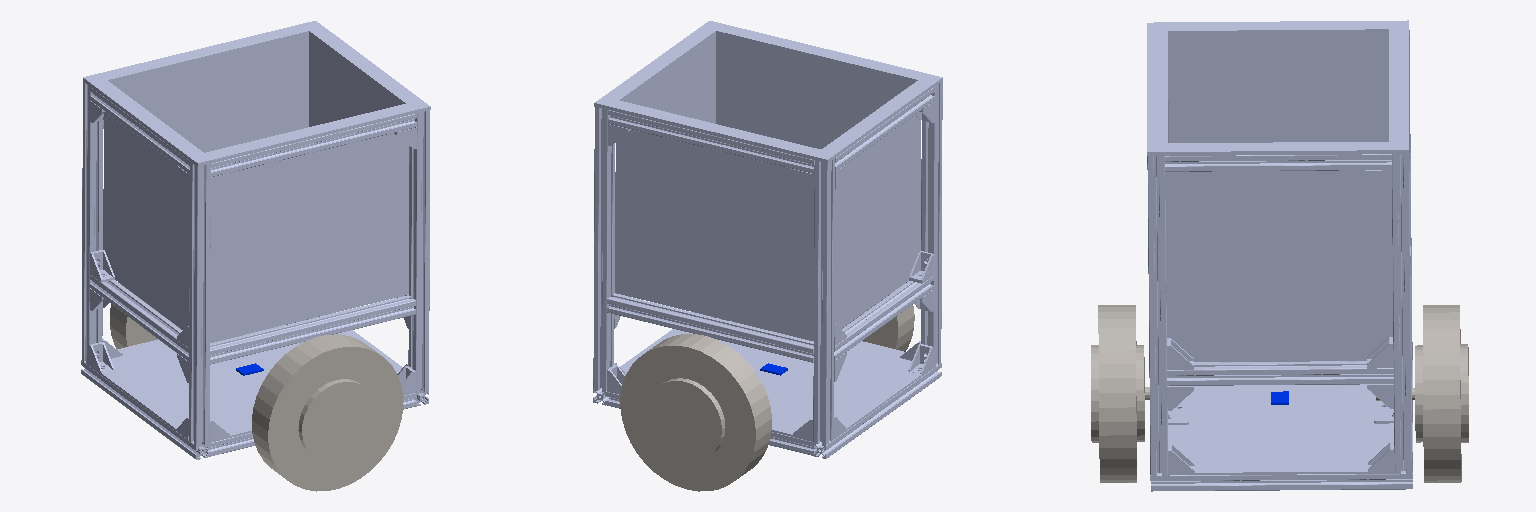
The robot description file, URDF, robot "selfbalancerobot":
<?xml version="1.0" encoding="utf-8"?>
<!-- This URDF was automatically created by SolidWorks to URDF Exporter! Originally created by Stephen Brawner (brawner@gmail.com) 
     Commit Version: 1.6.0-4-g7f85cfe  Build Version: 1.6.7995.38578
     For more information, please see http://wiki.ros.org/sw_urdf_exporter -->
<robot
  name="selfbalancerobot">
  
  <link name="base_link"/>
<joint name="base_to_body" type="fixed">
    <parent link="base_link"/>
    <child link="body_link"/>
    <origin xyz="0 0 0.1" rpy="0 0 0"/>
</joint>

  <link
    name="body_link">
    <inertial>
      <origin
        xyz="-0.000659653697 0.000031796103 0.16415"
        rpy="0 0 0" />
      <mass
        value="17" />
      <inertia
        ixx="0.028664"
        ixy="-2.4781E-13"
        ixz="1.6775E-13"
        iyy="0.033676"
        iyz="-4.1184E-05"
        izz="0.038394" />
    </inertial>
    <visual>
      <origin
        xyz="0.009215146303 0.001475796103 0"
        rpy="0 0 0" />
      <geometry>
        <mesh
          filename="package://selfbalancerobot/meshes/body_link.STL" />
      </geometry>
      <material
        name="">
        <color
          rgba="0.79216 0.81961 0.93333 1" />
      </material>
    </visual>
    <collision>
      <origin
        xyz="0.009215146303 0.001475796103 0"
        rpy="0 0 0" />
      <geometry>
        <mesh
          filename="package://selfbalancerobot/meshes/body_link.STL" />
      </geometry>
    </collision>
  </link>
  <link
    name="right_wheel_link">
    <inertial>
      <origin
        xyz="0 0 0"
        rpy="0 0 0" />
      <mass
        value="4.25" />
      <inertia
        ixx="0.028901"
        ixy="-5.1356E-19"
        ixz="1.9979E-19"
        iyy="0.052771"
        iyz="0.00020831"
        izz="0.028903" />
    </inertial>
    <visual>
      <origin
        xyz="0.004999998957 -0.021788653918 -0.000261794776"
        rpy="0 0 0" />
      <geometry>
        <mesh
          filename="package://selfbalancerobot/meshes/right_wheel_link.STL" />
      </geometry>
      <material
        name="">
        <color
          rgba="0.77647 0.75686 0.73725 1" />
      </material>
    </visual>
    <collision>
      <origin
        xyz="0 0 0"
        rpy="1.5707963267948966 0 0" />
      <geometry>
        <cylinder
          radius="0.1"
          length="0.01" />
      </geometry>
    </collision>
  </link>
  <joint
    name="right_wheel_joint"
    type="continuous">
    <origin
      xyz="0 -0.16 0"
      rpy="0 0 0" />
    <parent
      link="body_link" />
    <child
      link="right_wheel_link" />
    <axis
      xyz="0 1 0" />
    <dynamics
      damping="0.03"
      friction="0.0" />
  </joint>
  <link
    name="left_wheeL_link">
    <inertial>
      <origin
        xyz="0 0 0"
        rpy="0 0 0" />
      <mass
        value="4.25" />
      <inertia
        ixx="0.028901"
        ixy="5.5774E-18"
        ixz="-2.3463E-19"
        iyy="0.052771"
        iyz="0.00020831"
        izz="0.028903" />
    </inertial>
    <visual>
      <origin
        xyz="0.004999998957 0.021787552163 0.000261798501"
        rpy="0 0 0" />
      <geometry>
        <mesh
          filename="package://selfbalancerobot/meshes/left_wheeL_link.STL" />
      </geometry>
      <material
        name="">
        <color
          rgba="0.77647 0.75686 0.73725 1" />
      </material>
    </visual>
    <collision>
      <origin
        xyz="0 0 0"
        rpy="1.5707963267948966 0 0" />
      <geometry>
        <cylinder
          radius="0.1"
          length="0.01" />
      </geometry>
    </collision>
  </link>
  <joint
    name="left_wheeL_joint"
    type="continuous">
    <origin
      xyz="0 0.16 0"
      rpy="0 0 0" />
    <parent
      link="body_link" />
    <child
      link="left_wheeL_link" />
    <axis
      xyz="0 1 0" />
    <dynamics
      damping="0.03"
      friction="0.0" />
  </joint>
  <link
    name="imu_link">
    <inertial>
      <origin
        xyz="0 1.1083E-05 -0.00127"
        rpy="0 0 0" />
      <mass
        value="0.001524" />
      <inertia
        ixx="5.1619E-08"
        ixy="7.8021E-23"
        ixz="1.5757E-24"
        iyy="1.1512E-07"
        iyz="-4.3614E-10"
        izz="1.651E-07" />
    </inertial>
    <visual>
      <origin
        xyz="0 0 0"
        rpy="0 0 0" />
      <geometry>
        <mesh
          filename="package://selfbalancerobot/meshes/imu_link.STL" />
      </geometry>
      <material
        name="">
        <color
          rgba="0 0.24706 0.98824 1" />
      </material>
    </visual>
    <collision>
      <origin
        xyz="0 0 0"
        rpy="0 0 0" />
      <geometry>
        <mesh
          filename="package://selfbalancerobot/meshes/imu_link.STL" />
      </geometry>
    </collision>
  </link>
  <joint
    name="imu_joint"
    type="fixed">
    <origin
      xyz="-0.01 8.4903E-05 -0.0088126"
      rpy="0 0 0" />
    <parent
      link="body_link" />
    <child
      link="imu_link" />
  </joint>

  <ros2_control name="selfbalancerobot_system" type="system">
    <hardware>
      <plugin>gz_ros2_control/GazeboSimSystem</plugin>
    </hardware>
    <joint name="right_wheel_joint">
      <command_interface name="velocity">
        <param name="min">-16</param>
        <param name="max">16</param>
      </command_interface>
      <command_interface name="effort">
        <param name="min">-15</param>
        <param name="max">15</param>
      </command_interface>
      <state_interface name="position"/>
      <state_interface name="velocity"/>
      <state_interface name="effort"/>
    </joint>
    <joint name="left_wheeL_joint">
      <command_interface name="velocity">
        <param name="min">-16</param>
        <param name="max">16</param>
      </command_interface>
      <command_interface name="effort">
        <param name="min">-15</param>
        <param name="max">15</param>
      </command_interface>
      <state_interface name="position"/>
      <state_interface name="velocity"/>
      <state_interface name="effort"/>
    </joint>
  </ros2_control>

  <gazebo reference="imu_link">
    <sensor name="imu_sensor" type="imu">
      <always_on>1</always_on>
      <update_rate>100.0</update_rate>
      <visualize>true</visualize>
      <topic>imu</topic>
      <gz_frame_id>imu_link</gz_frame_id>
    </sensor>
  </gazebo>

  <gazebo reference="left_wheeL_link">
    <mu1>2.0</mu1>
    <mu2>1.6</mu2>
    <slip1>0.02</slip1>
    <slip2>0.08</slip2>
    <kp>20000.0</kp>
    <kd>30.0</kd>
    <minDepth>0.001</minDepth>
    <maxVel>0.1</maxVel>
  </gazebo>

  <gazebo reference="right_wheel_link">
    <mu1>2.0</mu1>
    <mu2>1.6</mu2>
    <slip1>0.02</slip1>
    <slip2>0.08</slip2>
    <kp>20000.0</kp>
    <kd>30.0</kd>
    <minDepth>0.001</minDepth>
    <maxVel>0.1</maxVel>
  </gazebo>

  <gazebo>
    <plugin
      filename="gz_ros2_control-system"
      name="gz_ros2_control::GazeboSimROS2ControlPlugin">
      <parameters>__ROS2_CONTROL_CONFIG__</parameters>
    </plugin>
    <plugin
      filename="gz-sim-imu-system"
      name="gz::sim::systems::Imu"/>
  </gazebo>
</robot>

--- What the picture shows (computed from the rendered views, not written in the file) ---
3 views of the same robot in one strip: view 1: azimuth 30°, elevation 25°; view 2: azimuth 150°, elevation 25°; view 3: azimuth 270°, elevation 25° (orthographic).
Robot: selfbalancerobot — 5 links, 4 joints (2 continuous, 2 fixed); root link base_link; default pose: every joint at zero.
Visible links, largest first — view 1: body_link, right_wheel_link, left_wheeL_link; view 2: body_link, left_wheeL_link, right_wheel_link; view 3: body_link, right_wheel_link, left_wheeL_link.
Boxes of the visible links, box(x1,y1,x2,y2) form: body_link: box(81, 21, 430, 459); right_wheel_link: box(252, 334, 403, 491); left_wheeL_link: box(110, 282, 177, 348); body_link: box(593, 21, 942, 458); left_wheeL_link: box(620, 334, 771, 491); right_wheel_link: box(843, 284, 914, 351); body_link: box(1147, 20, 1412, 491); right_wheel_link: box(1091, 305, 1149, 482); left_wheeL_link: box(1376, 305, 1468, 482).
Size in the robot's own frame: 0.3456 by 0.4245 by 0.4817 metres.
4 mesh visuals loaded from 4 distinct referenced files (4 binary STL).
